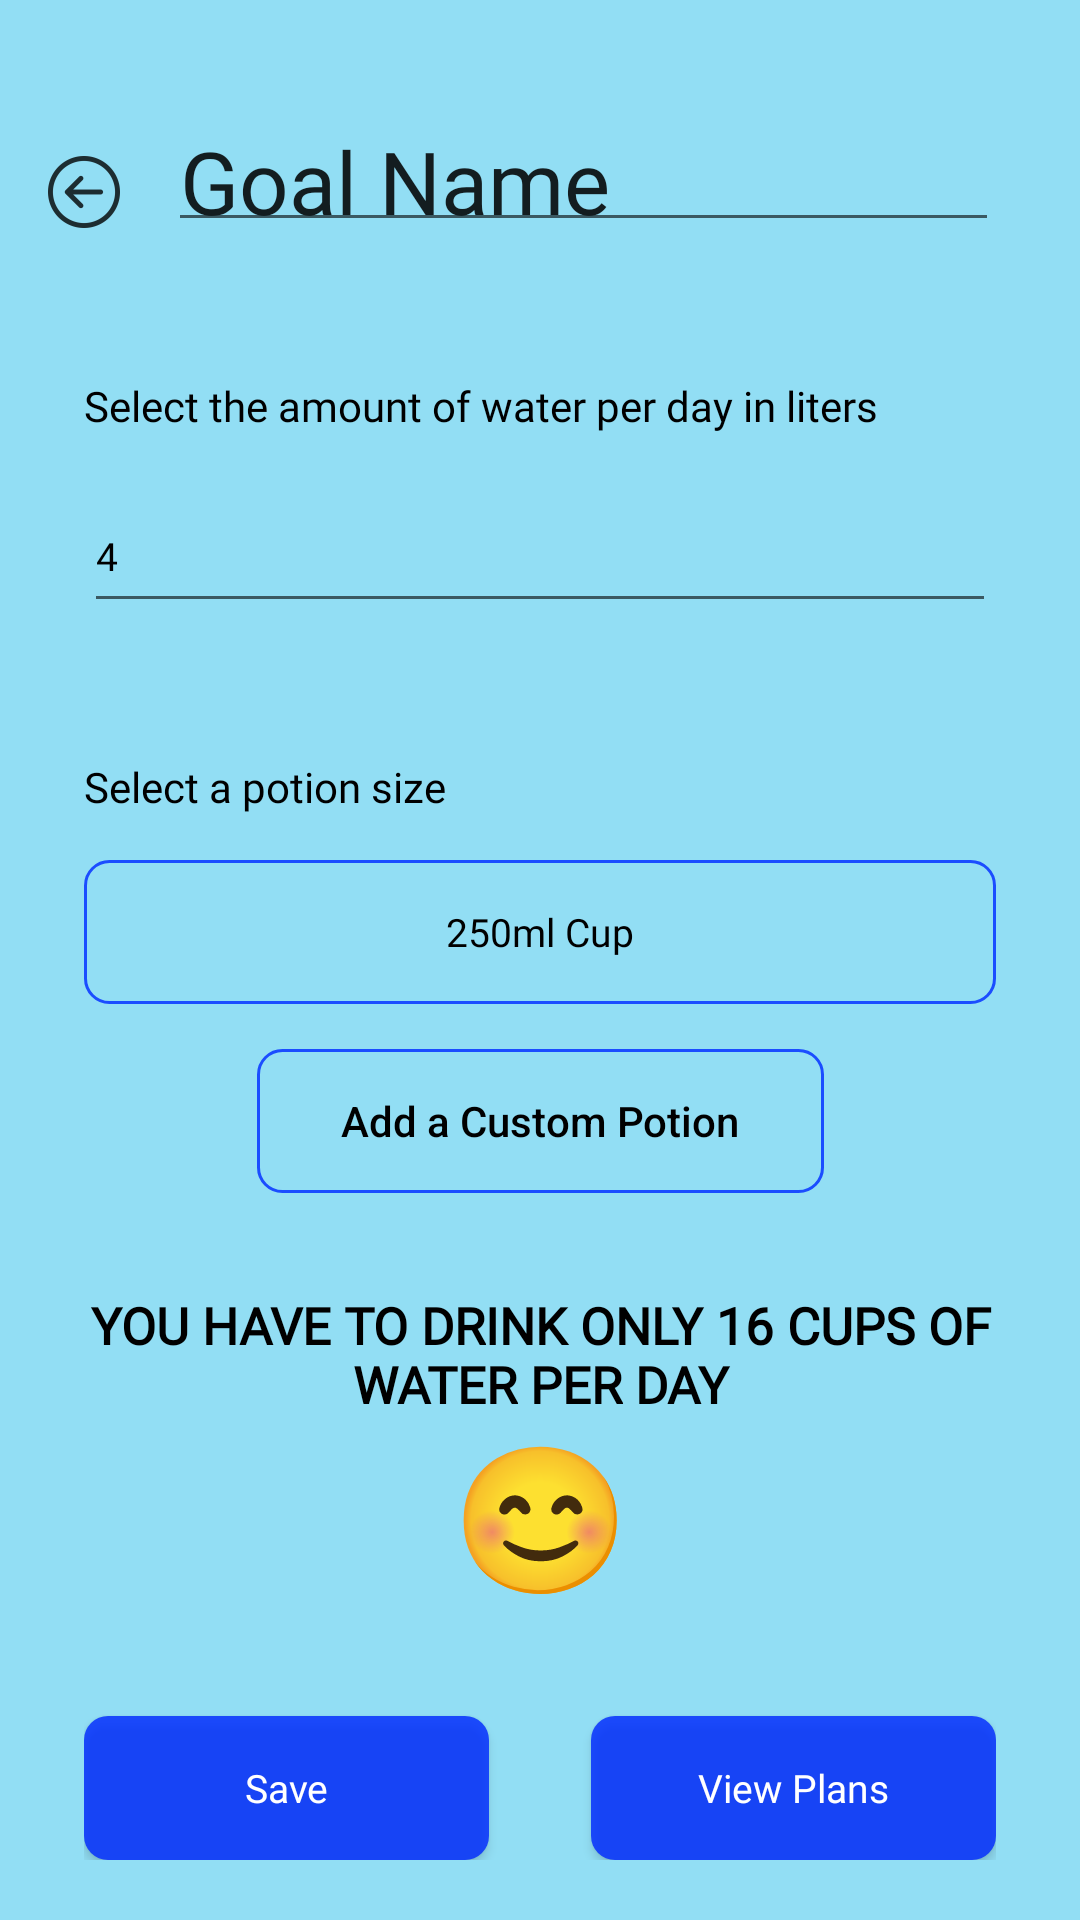

Screen size 1080×1920. Icon name, then its center in pixels as point (x, y):
top back: point (84, 192)
